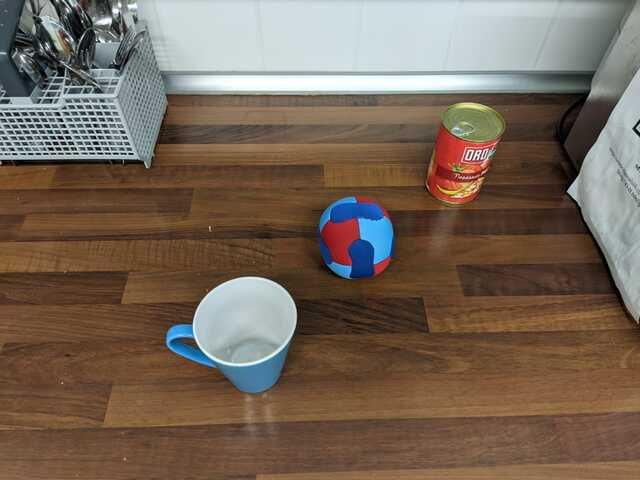005_tomato_soup_can: (422, 99, 509, 208)
025_mug: (162, 271, 301, 398)
057_racquetball: (314, 192, 400, 282)
